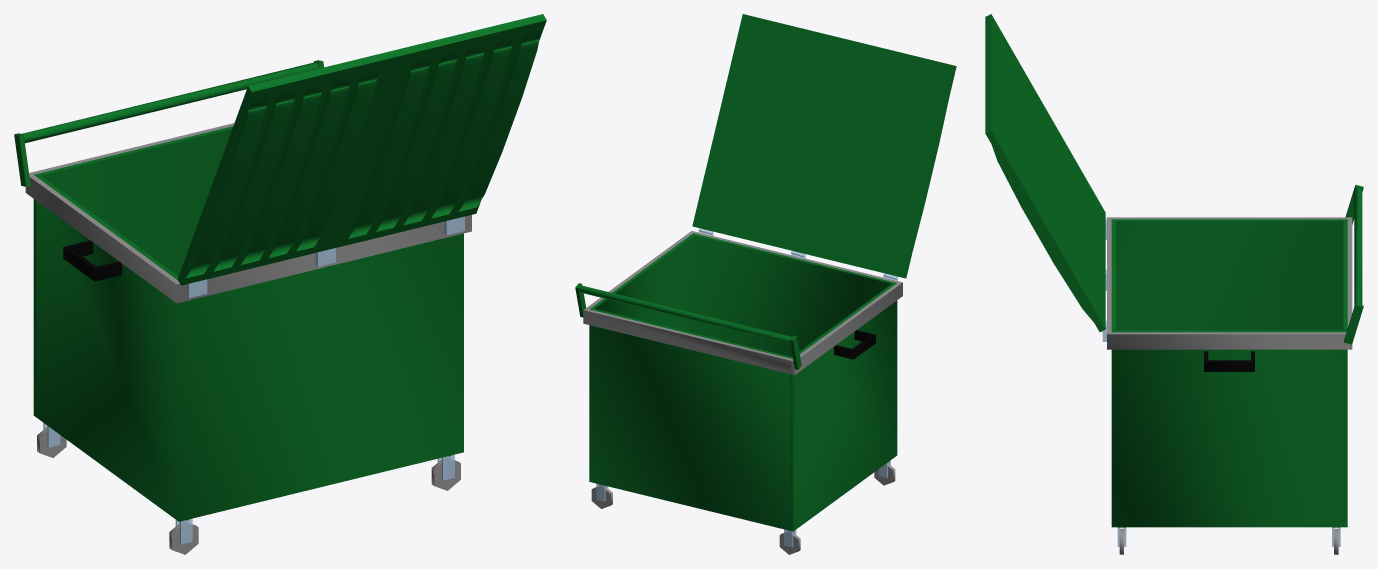
File: Dumpsters(1).glb
The picture shows the model from 3 angles, left to right: view 1: azimuth 30°, elevation 25°; view 2: azimuth 150°, elevation 25°; view 3: azimuth 270°, elevation 25°; orthographic projection. The views are drawn at different scales.
Visible parts, largest first — view 1: Root; view 2: Root; view 3: Root.
Boxes of the visible parts, x1,y1,x2,y2 form: Root: (14,14,546,554); Root: (575,14,956,554); Root: (985,14,1363,554).
Size of the model in its own units: 1.5 by 2.24 by 1.78.
